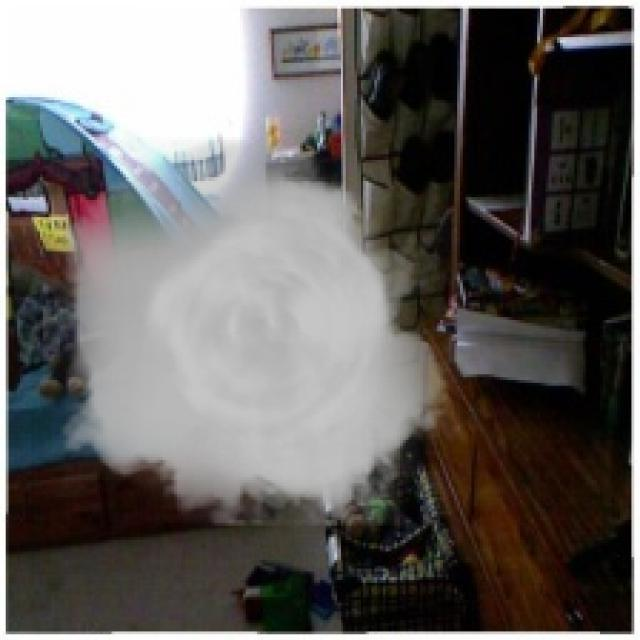Smoke: (43, 137, 460, 526)
